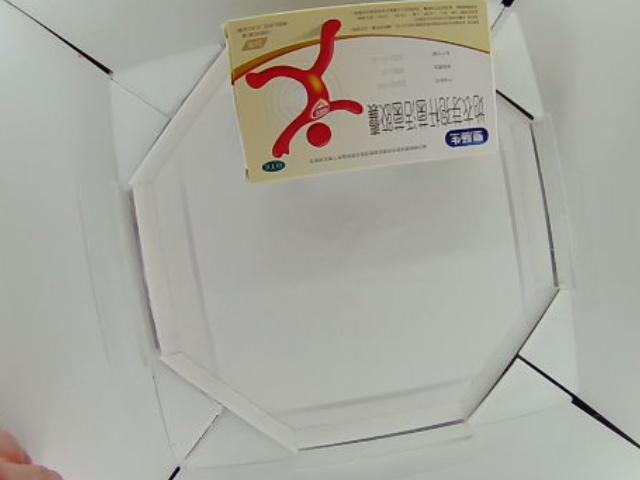Medicine: (228, 1, 499, 185)
